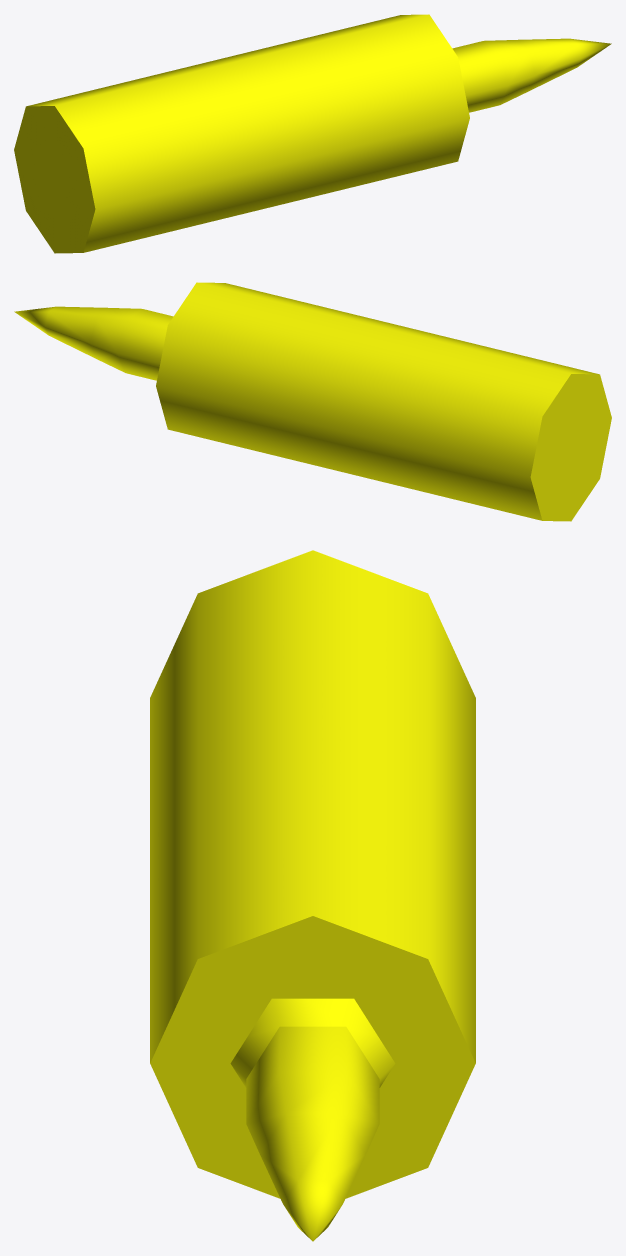
The model's file is Projectiles.glb.
3 views of the same model, one above another, from view 1: azimuth 30°, elevation 25°; view 2: azimuth 150°, elevation 25°; view 3: azimuth 270°, elevation 25° (orthographic). The views are drawn at different scales.
Visible parts, largest first — view 1: BuckShot_Projectile_Mesh, 5.56mm_Bullet_Mesh, 9mm_Shell_Mesh, 9mm_Bullet_Mesh; view 2: BuckShot_Projectile_Mesh, 5.56mm_Bullet_Mesh, 9mm_Bullet_Mesh; view 3: BuckShot_Projectile_Mesh, 5.56mm_Bullet_Mesh, BuckShot_Shell_Mesh.
Part boxes in pixels (<box>): BuckShot_Projectile_Mesh: <box>14,14,469,253</box>; 5.56mm_Bullet_Mesh: <box>30,38,611,226</box>; 9mm_Shell_Mesh: <box>47,140,76,219</box>; 9mm_Bullet_Mesh: <box>46,140,74,218</box>; BuckShot_Projectile_Mesh: <box>156,282,611,521</box>; 5.56mm_Bullet_Mesh: <box>14,306,595,493</box>; 9mm_Bullet_Mesh: <box>564,408,592,487</box>; BuckShot_Projectile_Mesh: <box>150,550,475,1198</box>; 5.56mm_Bullet_Mesh: <box>230,998,395,1241</box>; BuckShot_Shell_Mesh: <box>150,916,474,1198</box>.
Bounding box in the file's own units: 0.0639 × 0.0162 × 0.0162.
1 material, 1 textured.
